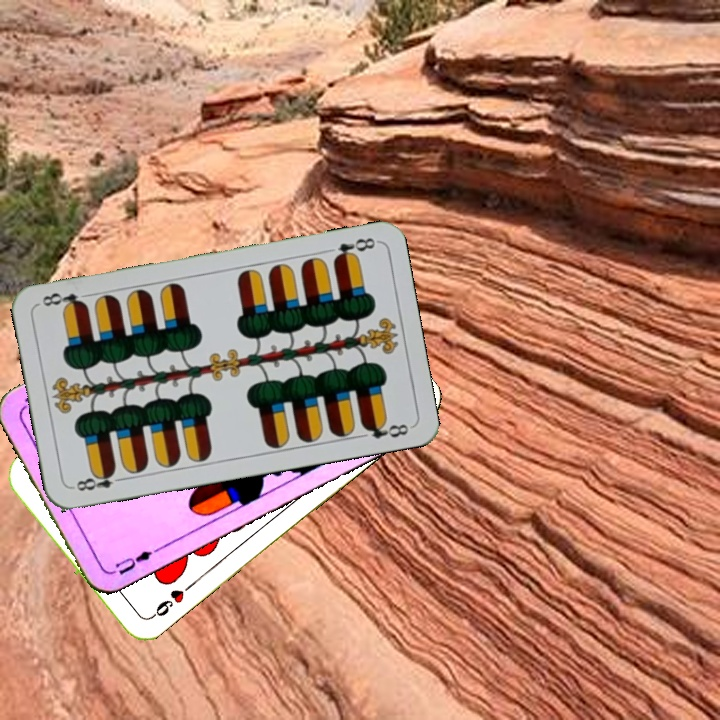E8: (69, 466, 128, 494), (329, 234, 378, 264)
EU: (105, 544, 161, 578)
H9: (144, 581, 194, 623)
